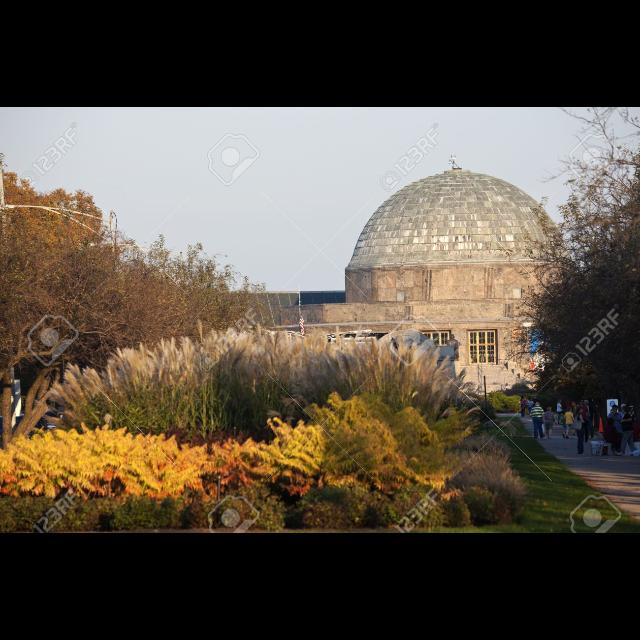head: (622, 406, 632, 414), (612, 404, 618, 414), (578, 407, 584, 415), (584, 401, 590, 407), (608, 418, 614, 424), (536, 402, 540, 408), (580, 400, 584, 406), (548, 408, 552, 412), (559, 400, 563, 404), (568, 408, 572, 412), (529, 398, 531, 402), (522, 396, 524, 398)
person: (614, 406, 640, 458), (602, 418, 626, 457), (608, 404, 624, 458), (572, 406, 588, 456), (528, 401, 546, 439), (576, 398, 590, 444), (540, 406, 556, 440), (582, 400, 594, 440), (564, 408, 576, 440), (556, 398, 566, 424), (518, 395, 528, 419), (526, 398, 534, 418)
